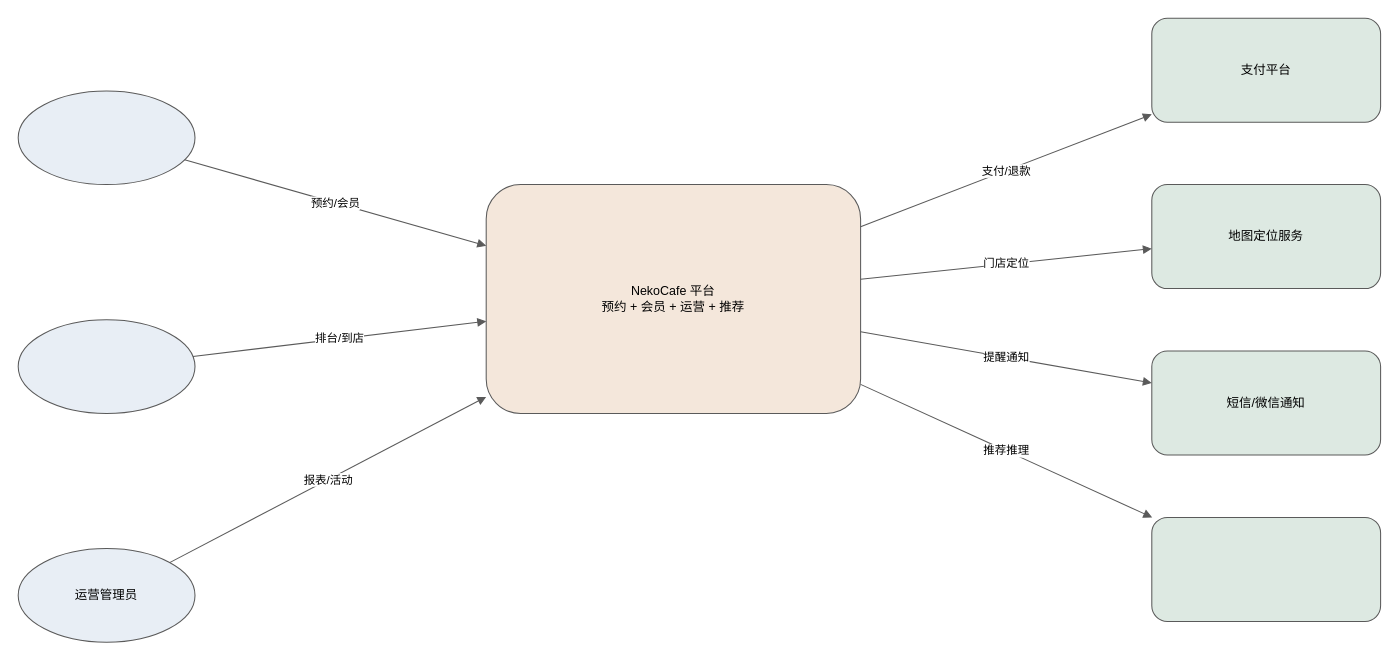
The diagram is 1399 pixels wide and 660 high, and some of its shapes have lost their labels. Here are the shapes that lost their labels. From the top down, the centre of each, then its label:
At (x=106, y=137): "顾客".
At (x=106, y=366): "店员".
At (x=1266, y=568): "AI 模型服务".
